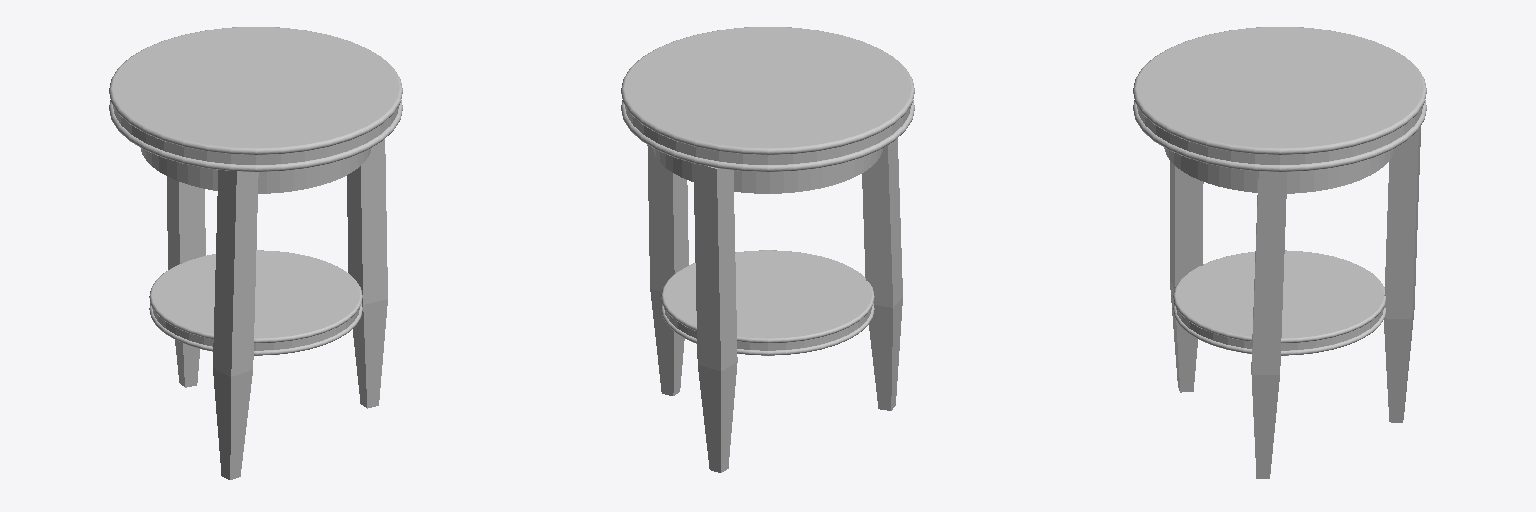
3 views of the same model, side by side, from view 1: azimuth 30°, elevation 25°; view 2: azimuth 150°, elevation 25°; view 3: azimuth 270°, elevation 25° (orthographic).
Visible parts, largest first — view 1: End_Table_; view 2: End_Table_; view 3: End_Table_.
Boxes of the visible parts, <box> form: End_Table_: <box>109,27,402,479</box>; End_Table_: <box>621,27,914,472</box>; End_Table_: <box>1133,27,1426,478</box>.
Size of the model in its own units: 20.5 by 25.91 by 20.5.